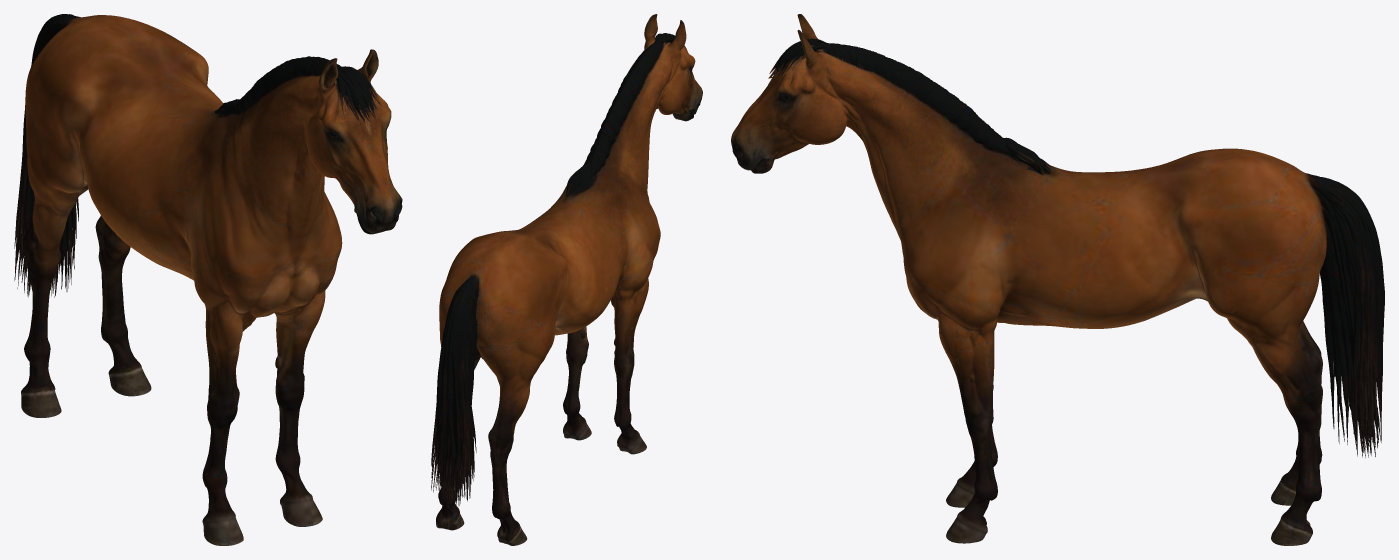
File: horse-light.glb
3 views of the same model, side by side, from view 1: azimuth 30°, elevation 25°; view 2: azimuth 150°, elevation 25°; view 3: azimuth 270°, elevation 25° (orthographic). The views are drawn at different scales.
Parts seen in each view (by area): view 1: horse; view 2: horse; view 3: horse.
Boxes of the visible parts, x1,y1,x2,y2 form: horse: (14, 14, 402, 545); horse: (431, 14, 702, 545); horse: (731, 14, 1384, 545).
Bounding box in the file's own units: 0.5828 × 2.01 × 2.4.
Materials: 1 (1 with a texture image).
